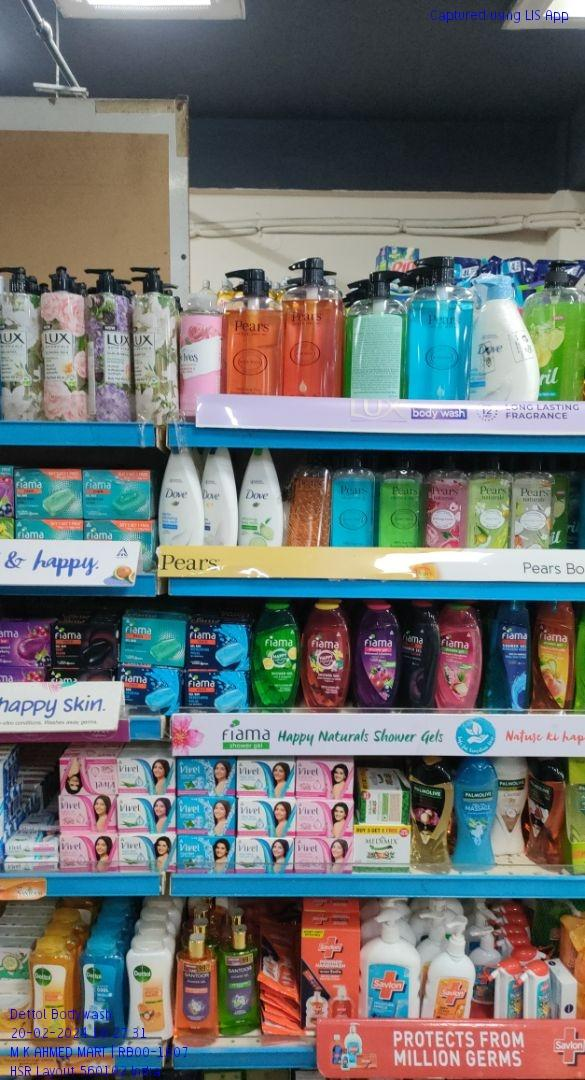Dettol_Bodywash_Cool: (82, 940, 125, 1046)
Dettol_Bodywash_Refresh: (33, 943, 79, 1042)
Dettol_Nourish_Body_Wash_250ML: (127, 938, 174, 1040)
Dove_Gentle_Exfoliating_Body_Wash_250ML: (160, 453, 202, 547)
Dove_Refreshing_Body_Wash_250ML: (239, 448, 284, 549)
Fiama_Shower_Gel_Patchouli_and_Macadamia_250ML: (436, 601, 480, 708)
Fiama_Shower_Gel_Peach_and_Avocado_250ML: (530, 604, 571, 708)
Palmolive_Aroma_Moments_Feel_The_Massage_Shower_Gel_250ML: (455, 760, 496, 870)
Palmolive_Luminous_Oils_Invigorating_Macadamia_Oil_With_Peony_250ML: (414, 759, 451, 874)
Pears_Naturale_Aloe_Vera_Body_Wash_250ML: (468, 453, 510, 547)
Pears_Pure_Glycerin_and_Lemon_Flower_Extracts_Body_Wash_250ML: (381, 450, 423, 546)
Pears_Pure_Glycerin_and_Mint_Extracts_Body_Wash_250ML: (332, 452, 377, 546)
